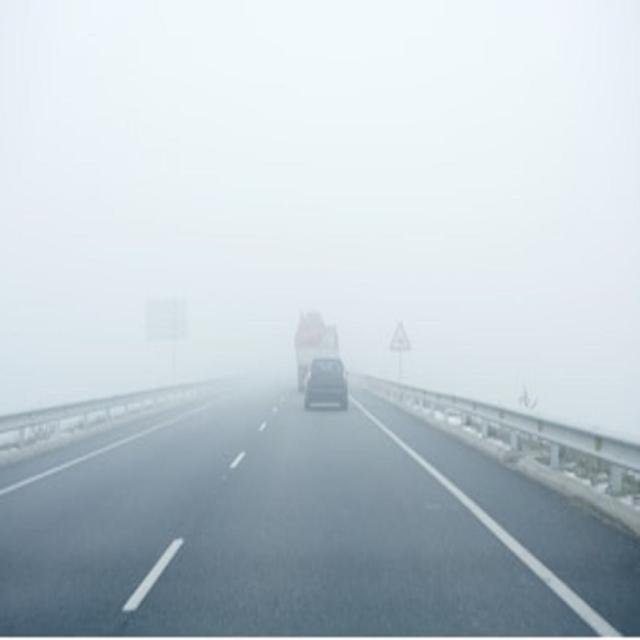bus: (294, 310, 340, 392)
car: (304, 355, 347, 411)
